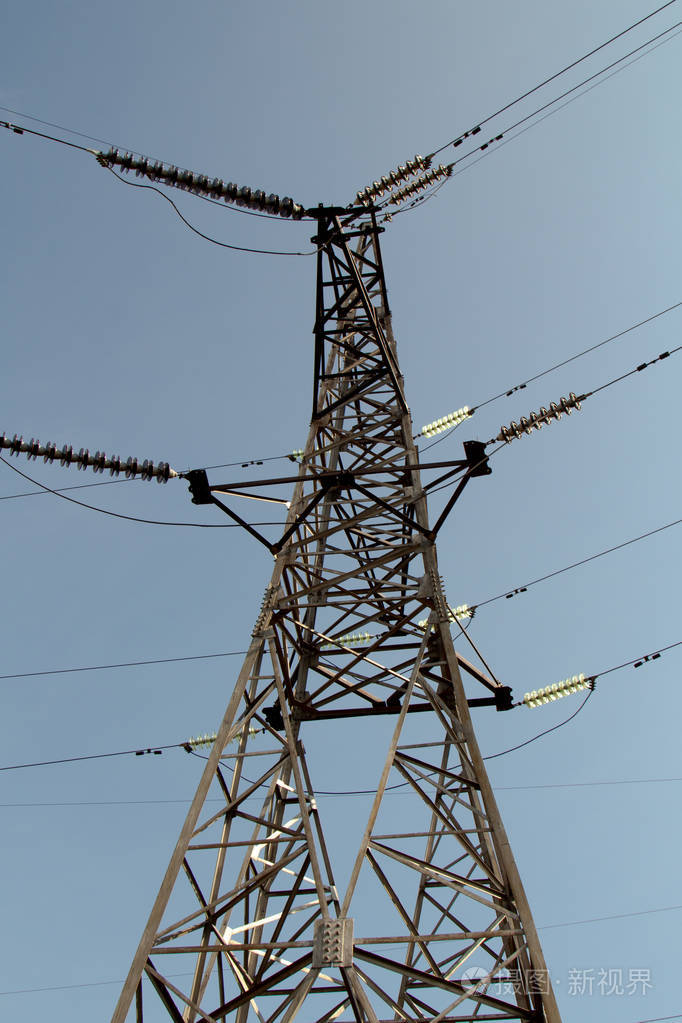insulator: (93, 141, 296, 217), (1, 429, 173, 484), (355, 155, 454, 208), (494, 393, 583, 437), (523, 674, 590, 706)
